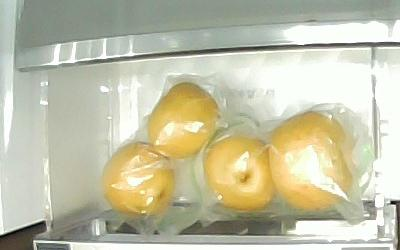pear_vinyl: (268, 109, 354, 212), (202, 133, 277, 213), (145, 80, 220, 159), (100, 139, 175, 218)
